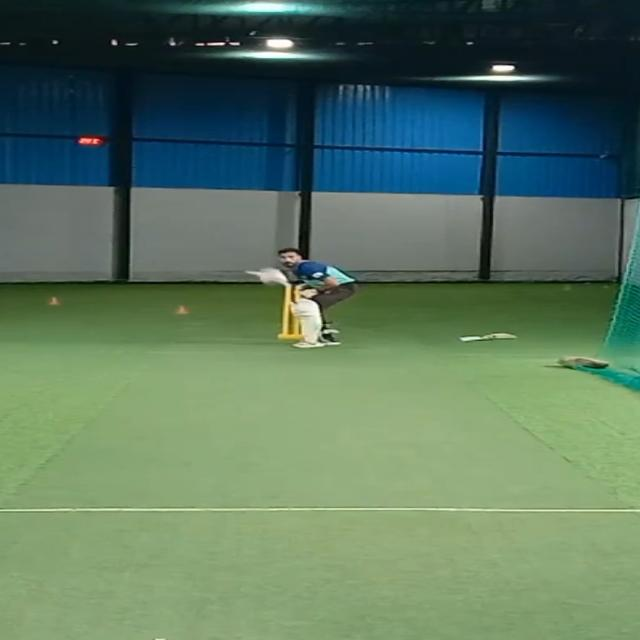ball: (257, 268, 288, 288)
stump: (279, 289, 304, 340)
